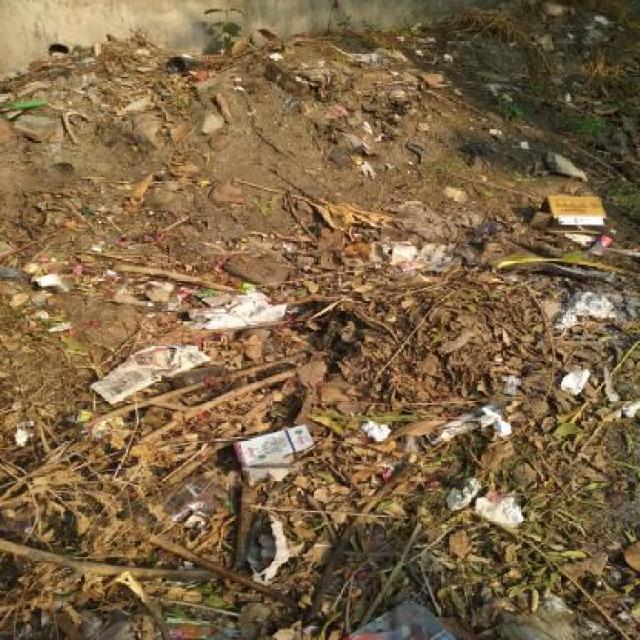garbage: (9, 305, 633, 640), (20, 9, 639, 283), (520, 186, 640, 313)
